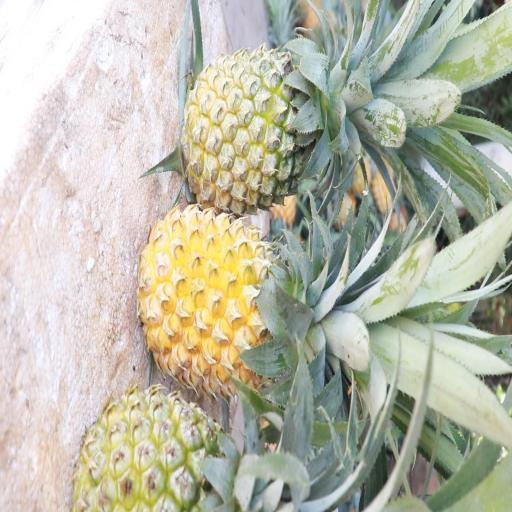------------------------------: (185, 47, 338, 204), (81, 388, 246, 512)
Pineapple - v8 v1: (141, 208, 308, 392)
